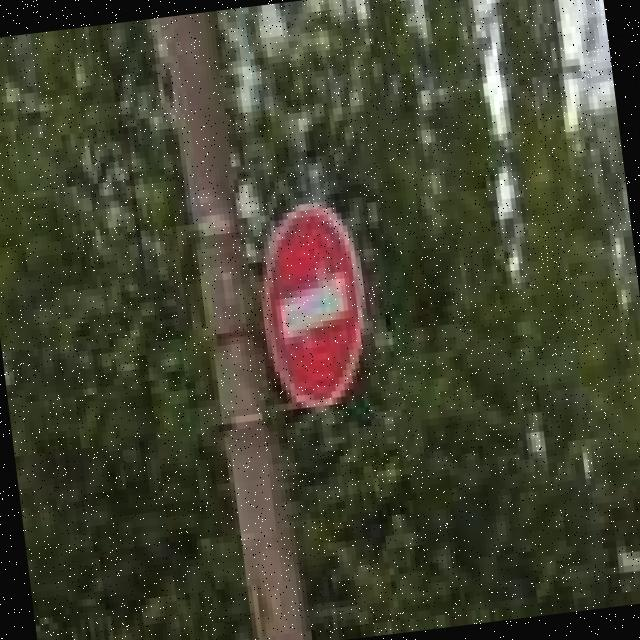Zakaz wjazdu: (250, 191, 378, 417)
